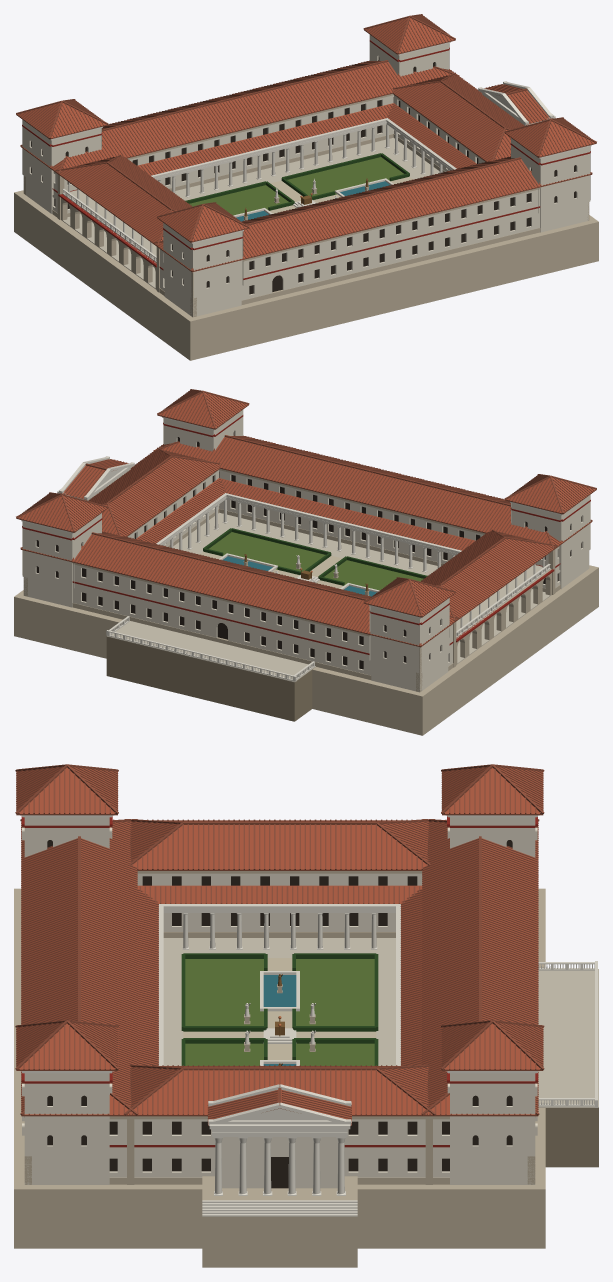
Rendered from ant_palace.glb.
3 views of the same model, one above another, from view 1: azimuth 30°, elevation 25°; view 2: azimuth 150°, elevation 25°; view 3: azimuth 270°, elevation 25° (orthographic). The views are drawn at different scales.
Visible parts, largest first — view 1: ant_palace; view 2: ant_palace; view 3: ant_palace.
Boxes of the visible parts, bbox=[...] form: ant_palace: bbox=[14, 14, 598, 360]; ant_palace: bbox=[14, 389, 598, 735]; ant_palace: bbox=[14, 764, 598, 1267].
Size of the model in its own units: 94.9 by 27.74 by 71.5.
